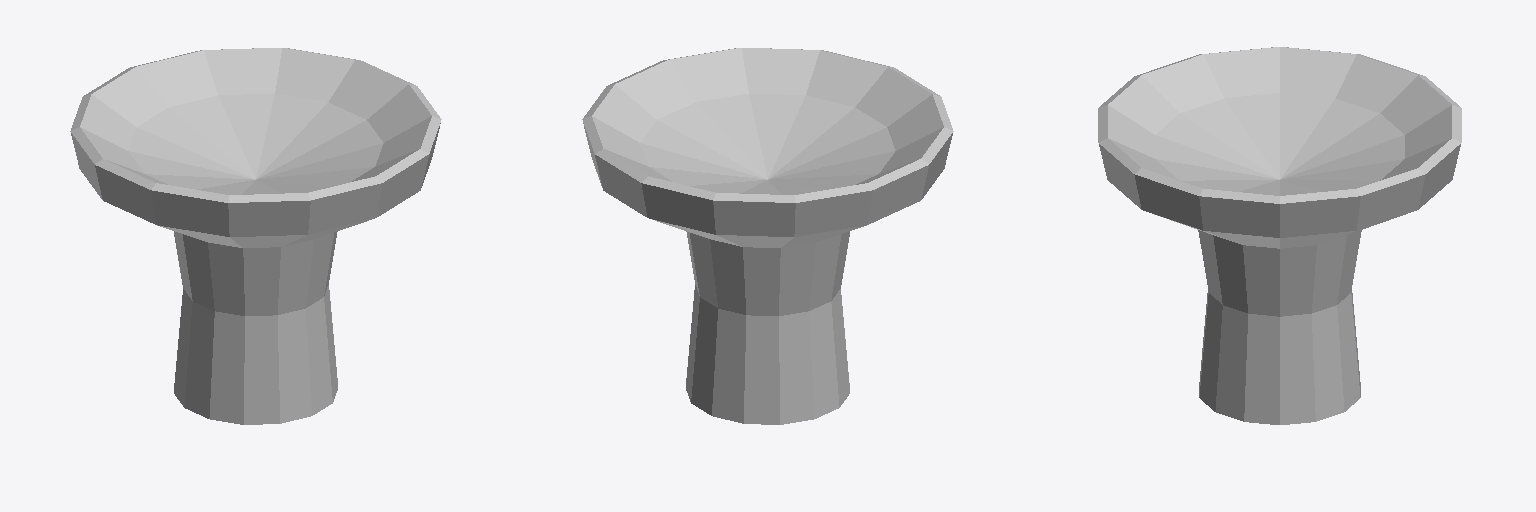
Rendered from Brazier.obj.
3 renders of one model, left to right at view 1: azimuth 30°, elevation 25°; view 2: azimuth 150°, elevation 25°; view 3: azimuth 270°, elevation 25°, orthographic.
Visible parts, largest first — view 1: pCylinder1; view 2: pCylinder1; view 3: pCylinder1.
Part boxes in pixels (left/top/right/bottom): pCylinder1: left=70, top=48, right=441, bottom=424; pCylinder1: left=582, top=48, right=953, bottom=424; pCylinder1: left=1098, top=47, right=1461, bottom=424.
Bounding box in the file's own units: 2 × 1.59 × 1.95.